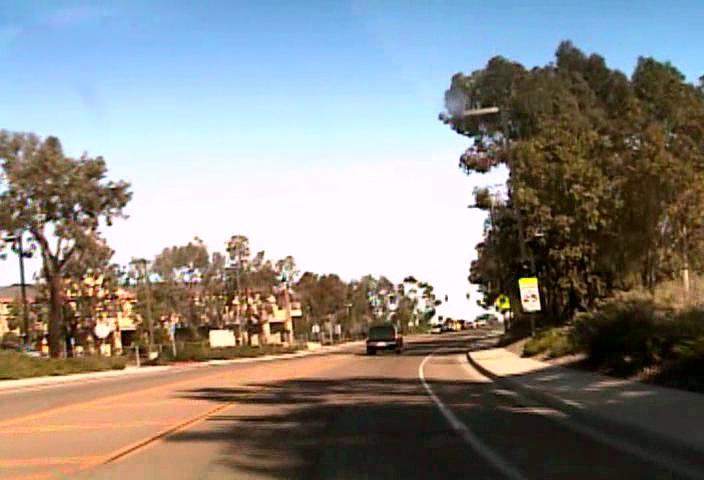schoolSpeedLimit25: (518, 277, 541, 311)
